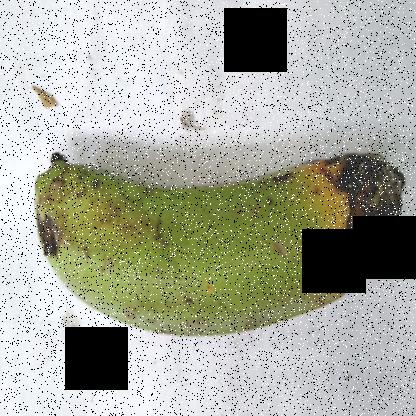unripe: (26, 120, 312, 361)
